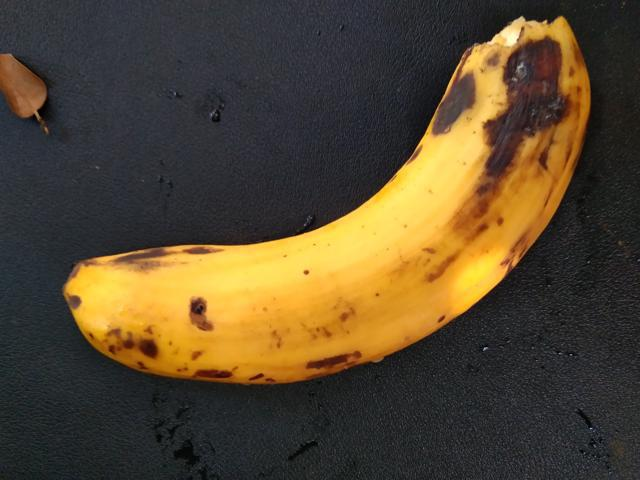overripe: (36, 9, 589, 407)
